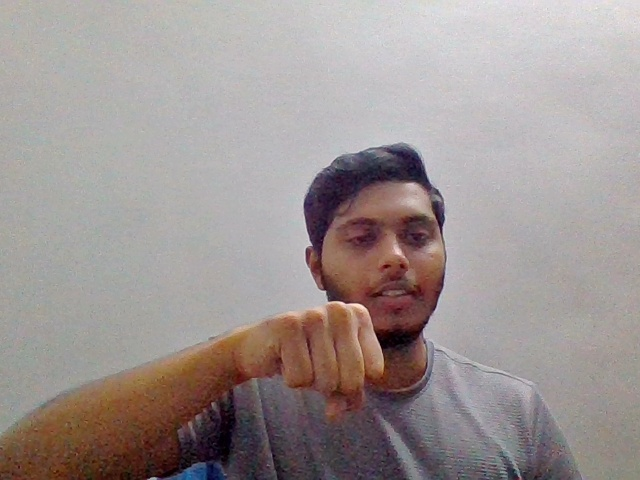Yes: (218, 297, 394, 417)
